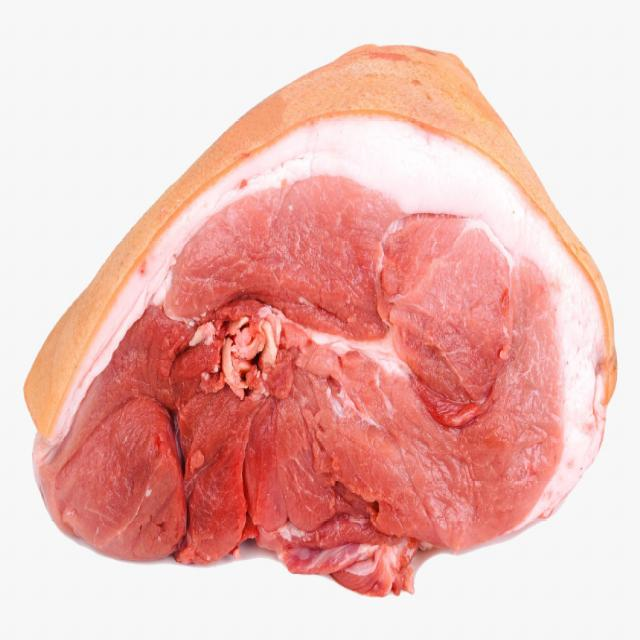pork: (24, 45, 618, 596)
